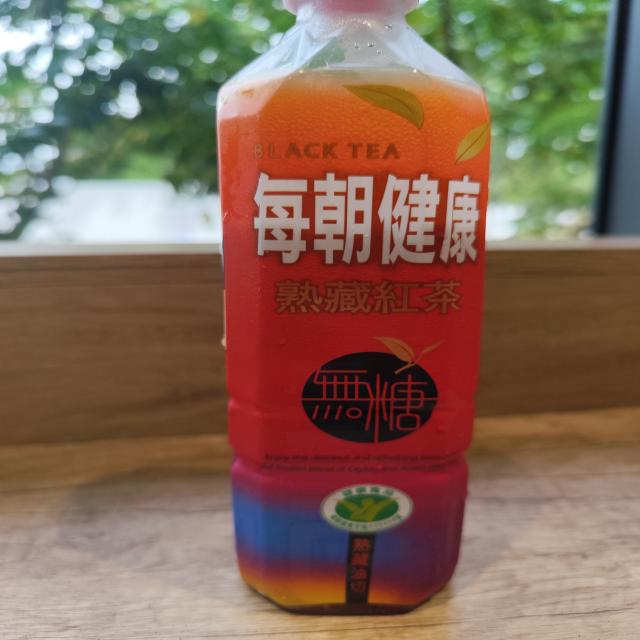MeiChou_BlackTea: (206, 0, 501, 615)
